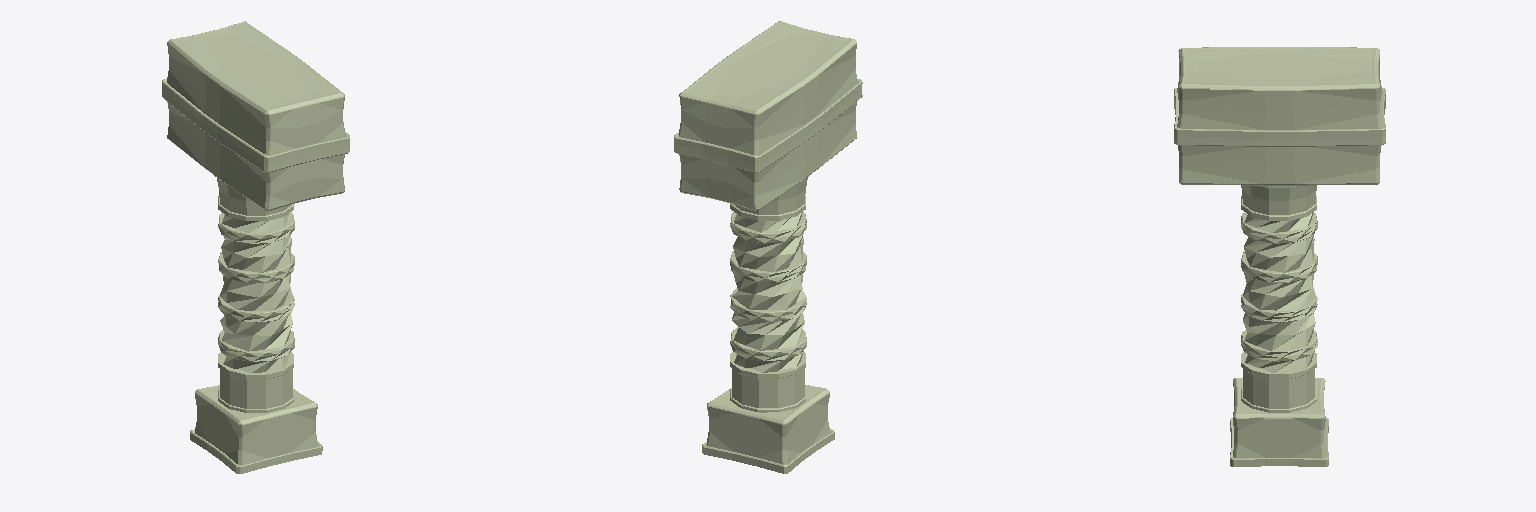
Rendered from Pedestal_Hammer.obj.
3 views of the same model, side by side, from view 1: azimuth 30°, elevation 25°; view 2: azimuth 150°, elevation 25°; view 3: azimuth 270°, elevation 25° (orthographic).
Visible parts, largest first — view 1: Body_Hammer, Handle_Hammer, Foot_Hammer, Ring_Hammer, Ring_Hammer02; view 2: Body_Hammer, Handle_Hammer, Foot_Hammer, Ring_Hammer, Ring_Hammer02; view 3: Body_Hammer, Handle_Hammer, Foot_Hammer, Ring_Hammer, Ring_Hammer02.
Boxes of the visible parts, x1,y1,x2,y2 form: Body_Hammer: [162, 21, 349, 211]; Handle_Hammer: [218, 212, 294, 372]; Foot_Hammer: [190, 385, 322, 473]; Ring_Hammer: [218, 352, 293, 412]; Ring_Hammer02: [214, 175, 293, 220]; Body_Hammer: [674, 21, 862, 210]; Handle_Hammer: [730, 212, 806, 372]; Foot_Hammer: [702, 385, 834, 473]; Ring_Hammer: [730, 352, 805, 412]; Ring_Hammer02: [730, 175, 809, 220]; Body_Hammer: [1174, 47, 1385, 185]; Handle_Hammer: [1241, 212, 1317, 372]; Foot_Hammer: [1230, 378, 1328, 466]; Ring_Hammer: [1241, 352, 1316, 412]; Ring_Hammer02: [1241, 185, 1316, 220].
Bounding box in the file's own units: 2.32 × 9.01 × 4.57.